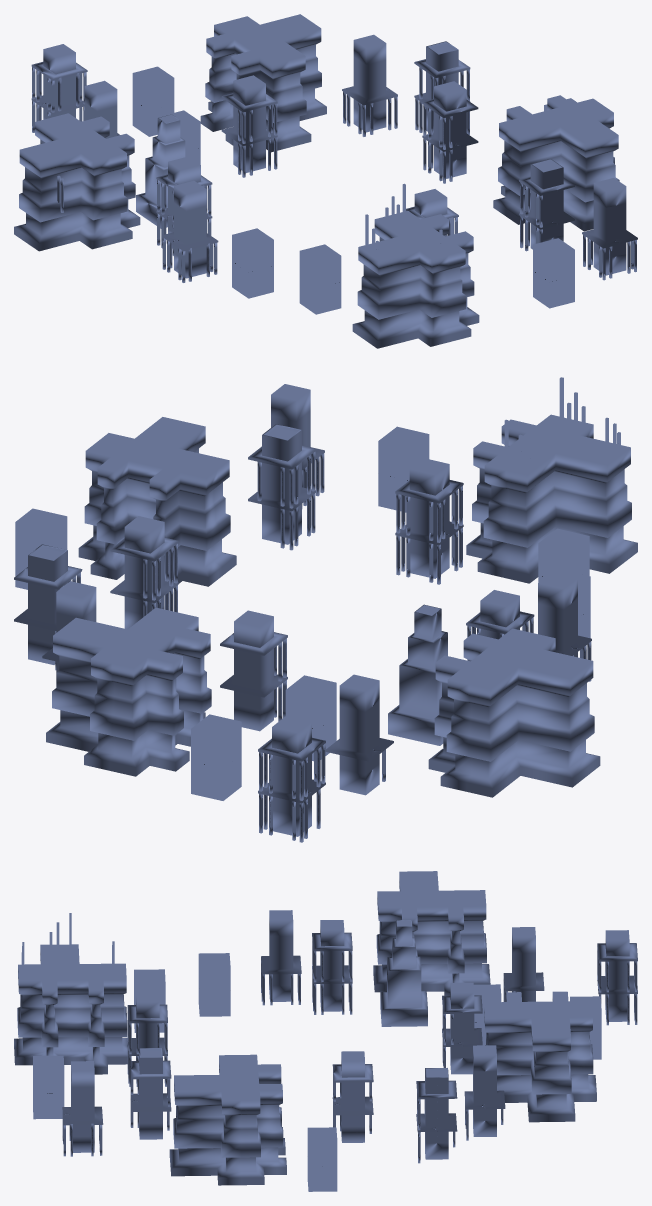
Rendered from 3D_Building_forBG.fbx.
The picture shows the model from 3 angles, top to bottom: view 1: azimuth 30°, elevation 25°; view 2: azimuth 150°, elevation 25°; view 3: azimuth 270°, elevation 25°; orthographic projection. The views are drawn at different scales.
Parts seen in each view (by area): view 1: City1_Block_4:Line12, City1_Block_4:Line17, City1_Block_4:Line18, City1_Block_4:Line19, City1_Block_4:Box198, City1_Block_4:Box300, City1_Block_4:Box023, City1_Block_4:Box338, City1_Block_4:Box235, City1_Block_4:Box325, City1_Block_4:Box011, City1_Block_4:Box022 (+9 smaller); view 2: City1_Block_4:Line12, City1_Block_4:Line18, City1_Block_4:Line17, City1_Block_4:Line19, City1_Block_4:Building_21, City1_Block_4:Box235, City1_Block_4:Box01, City1_Block_4:Box138, City1_Block_4:Box325, City1_Block_4:Box46, City1_Block_4:Box338, City1_Block_4:Box222 (+10 smaller); view 3: City1_Block_4:Line19, City1_Block_4:Line17, City1_Block_4:Line18, City1_Block_4:Line12, City1_Block_4:Building_21, City1_Block_4:Box338, City1_Block_4:Box325, City1_Block_4:Box222, City1_Block_4:Box235, City1_Block_4:Box46, City1_Block_4:Box273, City1_Block_4:Box198 (+10 smaller).
Part boxes in pixels (<box>): City1_Block_4:Line12: <box>14,113,140,251</box>; City1_Block_4:Line17: <box>352,211,479,348</box>; City1_Block_4:Line18: <box>200,14,326,152</box>; City1_Block_4:Line19: <box>493,95,619,231</box>; City1_Block_4:Box198: <box>342,34,397,132</box>; City1_Block_4:Box300: <box>582,178,637,275</box>; City1_Block_4:Box023: <box>162,180,218,278</box>; City1_Block_4:Box338: <box>422,81,478,178</box>; City1_Block_4:Box235: <box>221,75,277,172</box>; City1_Block_4:Box325: <box>519,159,574,249</box>; City1_Block_4:Box011: <box>299,244,341,314</box>; City1_Block_4:Box022: <box>232,228,273,298</box>; City1_Block_4:Line12: <box>428,628,600,797</box>; City1_Block_4:Line18: <box>46,607,211,776</box>; City1_Block_4:Line17: <box>466,414,637,583</box>; City1_Block_4:Line19: <box>78,417,236,586</box>; City1_Block_4:Building_21: <box>388,604,447,745</box>; City1_Block_4:Box235: <box>220,610,287,731</box>; City1_Block_4:Box01: <box>325,674,393,795</box>; City1_Block_4:Box138: <box>395,458,463,578</box>; City1_Block_4:Box325: <box>248,424,315,544</box>; City1_Block_4:Box46: <box>258,716,325,836</box>; City1_Block_4:Box338: <box>110,516,178,629</box>; City1_Block_4:Box222: <box>14,544,82,664</box>; City1_Block_4:Line19: <box>169,1054,286,1185</box>; City1_Block_4:Line17: <box>14,944,127,1074</box>; City1_Block_4:Line18: <box>484,991,596,1122</box>; City1_Block_4:Line12: <box>373,871,490,995</box>; City1_Block_4:Building_21: <box>380,920,427,1026</box>; City1_Block_4:Box338: <box>332,1051,373,1142</box>; City1_Block_4:Box325: <box>130,1048,171,1139</box>; City1_Block_4:Box222: <box>416,1068,457,1159</box>; City1_Block_4:Box235: <box>442,982,482,1074</box>; City1_Block_4:Box46: <box>597,930,637,1021</box>; City1_Block_4:Box273: <box>312,920,352,1011</box>; City1_Block_4:Box198: <box>464,1045,505,1136</box>.
Size of the model in its own units: 6193 by 1400 by 6818.
